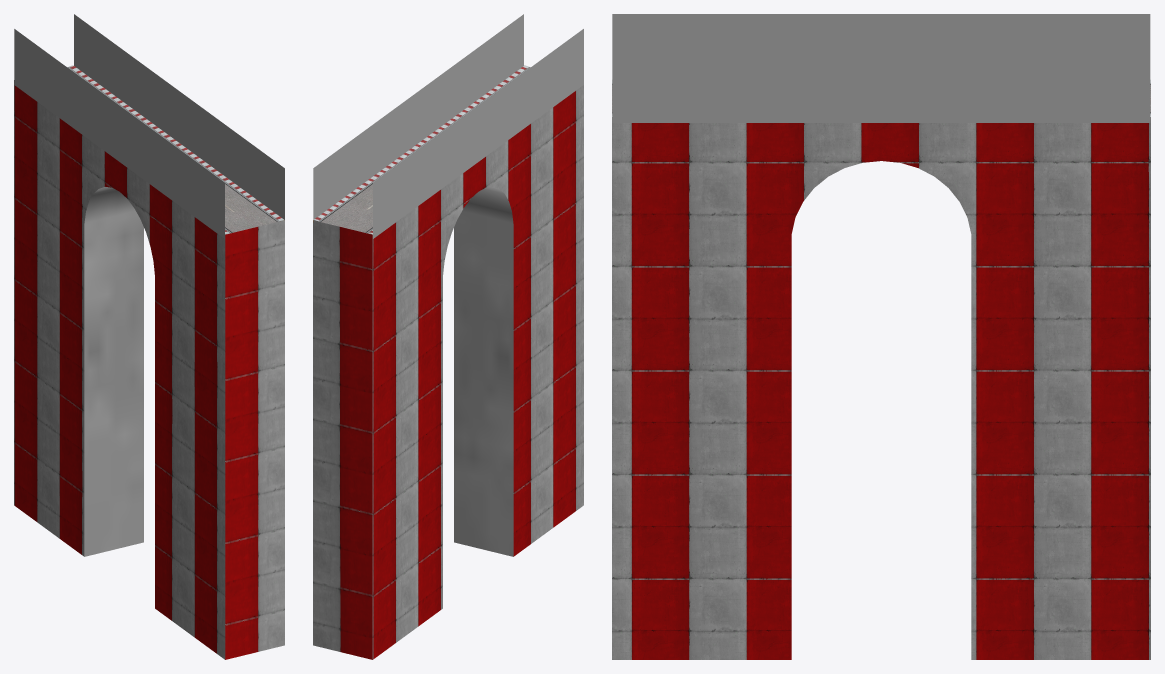
File: track.fbx
3 views of the same model, side by side, from view 1: azimuth 30°, elevation 25°; view 2: azimuth 150°, elevation 25°; view 3: azimuth 270°, elevation 25° (orthographic). The views are drawn at different scales.
Visible parts, largest first — view 1: Track, colider; view 2: Track, colider; view 3: Track, colider.
Part boxes in pixels (bbox=[...]): Track: bbox=[14, 65, 284, 659]; colider: bbox=[14, 14, 284, 238]; Track: bbox=[313, 65, 583, 659]; colider: bbox=[313, 14, 583, 238]; Track: bbox=[612, 79, 1150, 659]; colider: bbox=[612, 14, 1150, 122].
Size of the model in its own units: 3400 by 25911 by 20790.
